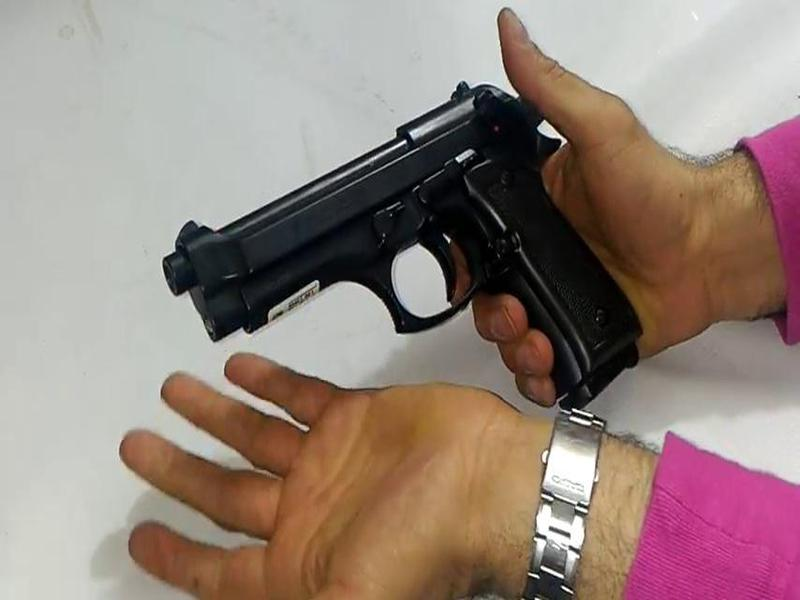Pistola: (137, 67, 661, 424)
